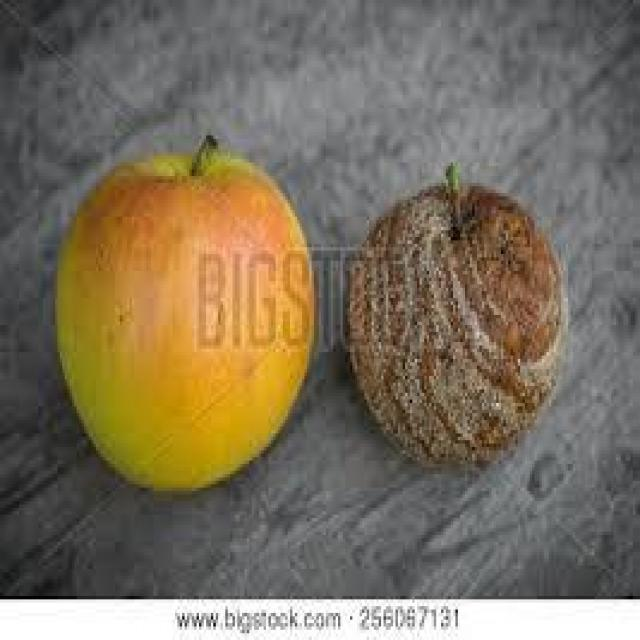Fresh Apple: (48, 151, 322, 499)
Rotten: (349, 172, 575, 484)
